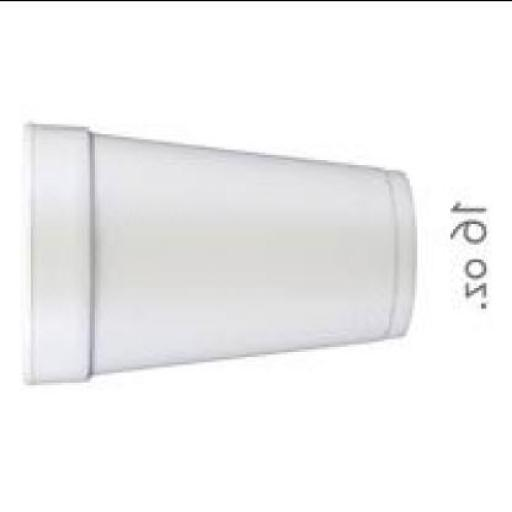paper: (23, 121, 420, 379)
